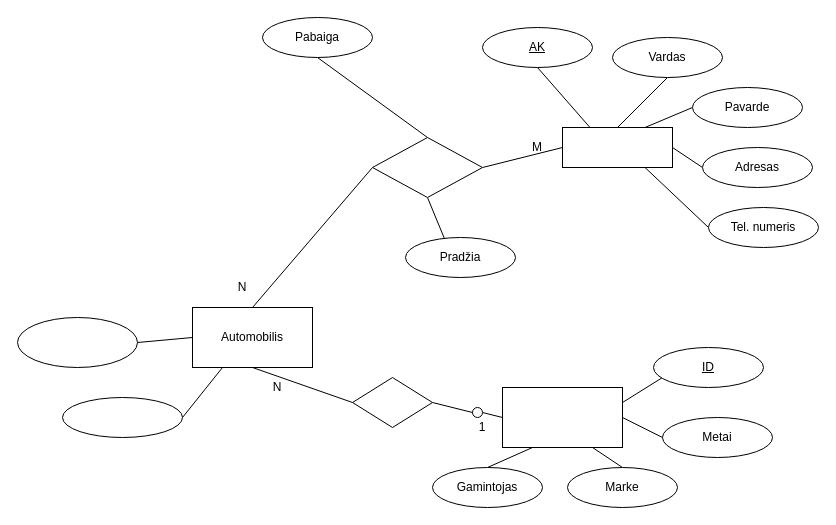
The diagram is 836 pixels wide and 525 high, and some of its shapes have lost their labels. Here are the shapes that lost their labels. From the top down, the centre of each, then its label:
At (427,167): "Išsinuomoja".
At (617,147): "Klientas".
At (77,342): "Valstybinis Nr.".
At (122,417): "Kaina".
At (392,402): "Turi".
At (562,417): "Modelis".
